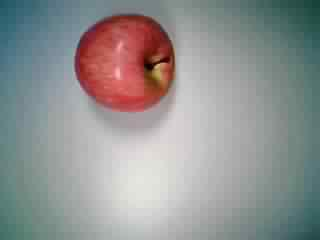apple: (74, 14, 179, 116)
